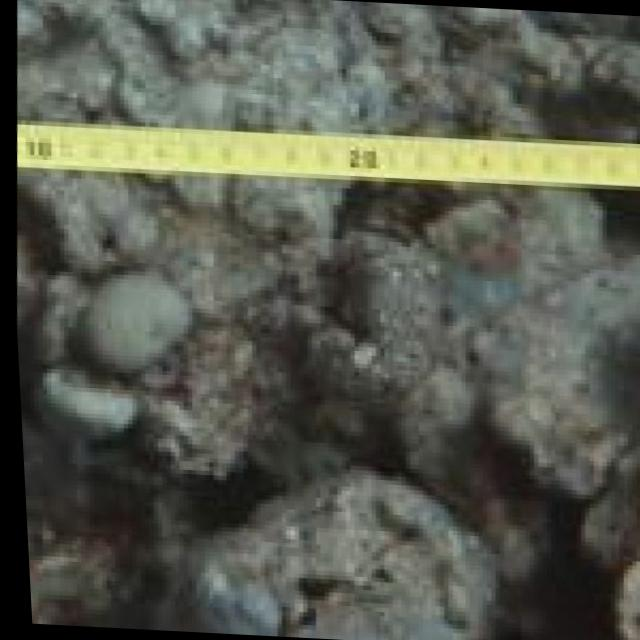Dead Coral: (7, 163, 640, 640)
